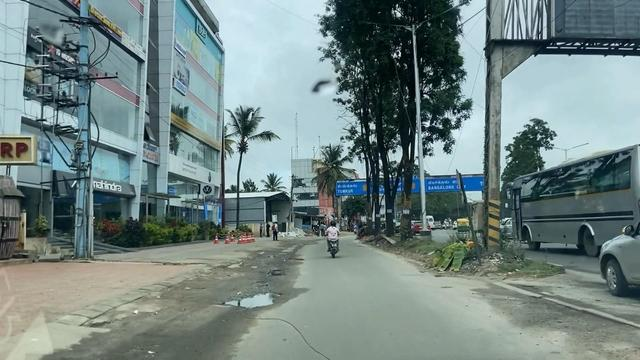RoadDamages: (213, 276, 284, 317), (500, 281, 549, 335)
